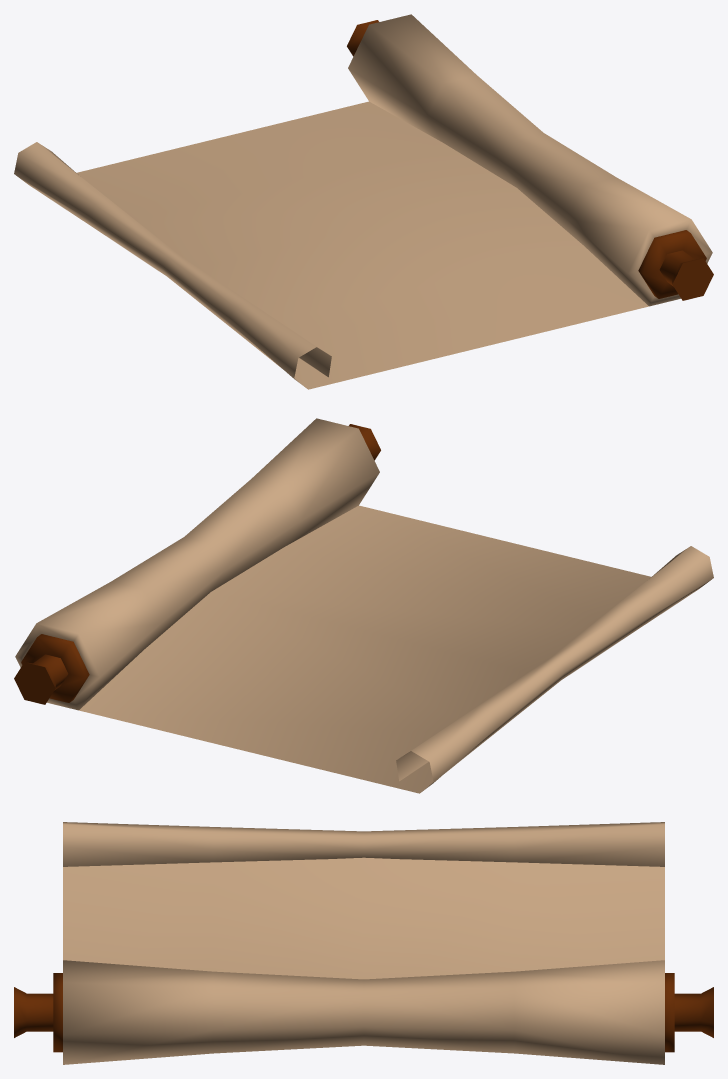
File: SM_Map_Single_Open.fbx
3 views of the same model, one above another, from view 1: azimuth 30°, elevation 25°; view 2: azimuth 150°, elevation 25°; view 3: azimuth 270°, elevation 25° (orthographic). The views are drawn at different scales.
Parts seen in each view (by area): view 1: Map_open_single; view 2: Map_open_single; view 3: Map_open_single.
Part boxes in pixels (left/top/right/bottom): Map_open_single: left=14, top=14, right=713, bottom=389; Map_open_single: left=14, top=418, right=713, bottom=793; Map_open_single: left=14, top=822, right=713, bottom=1064.
Size of the model in its own units: 28.42 by 38.29 by 4.98.
